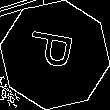P_E: (27, 33, 83, 77)
